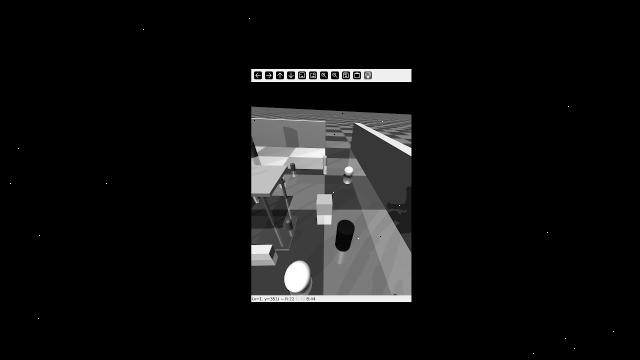cilindro: (334, 220, 359, 251), (286, 159, 300, 175), (283, 216, 294, 232), (252, 195, 264, 206), (320, 154, 328, 166)
cuadrado: (314, 192, 336, 220)
esfera: (284, 260, 313, 292), (342, 164, 356, 177)
rectangulo: (244, 240, 277, 262)
